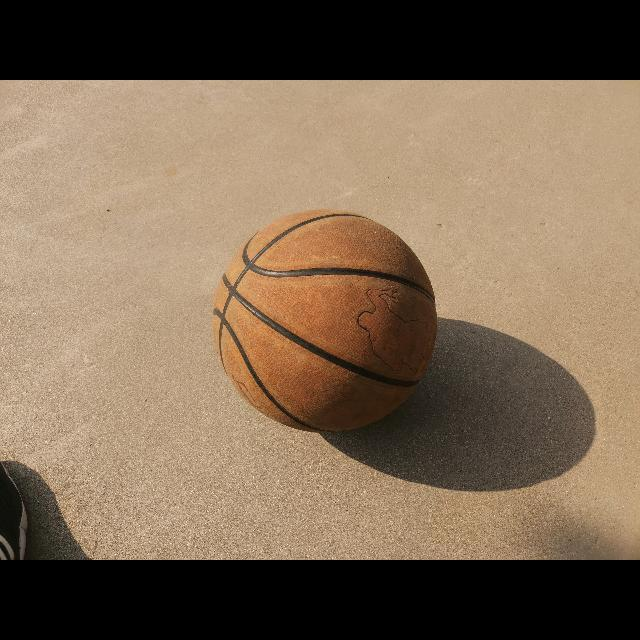basketball: (214, 210, 436, 432)
